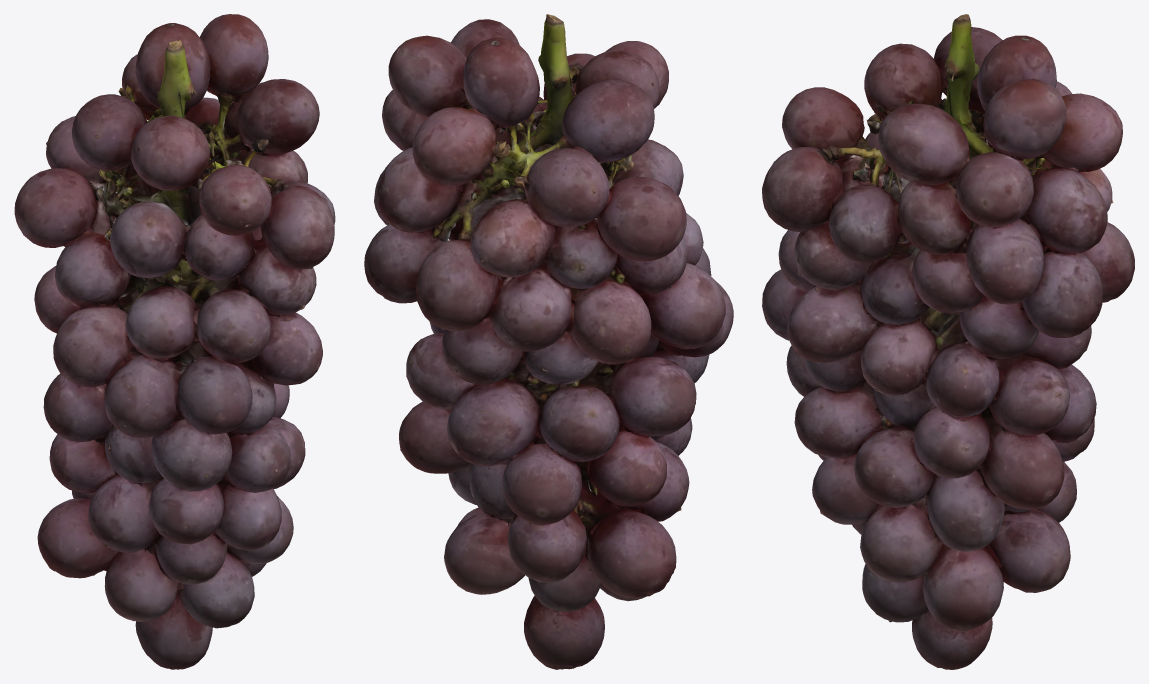
Rendered from blue_grapes.glb.
The picture shows the model from 3 angles, left to right: view 1: azimuth 30°, elevation 25°; view 2: azimuth 150°, elevation 25°; view 3: azimuth 270°, elevation 25°; orthographic projection. The views are drawn at different scales.
Parts seen in each view (by area): view 1: Object_2; view 2: Object_2; view 3: Object_2.
Boxes of the visible parts, x1,y1,x2,y2 form: Object_2: (14, 14, 335, 669); Object_2: (364, 14, 733, 669); Object_2: (762, 14, 1134, 669).
Size of the model in its own units: 12.13 by 25.51 by 13.17.
Materials: 1 (1 with a texture image).
